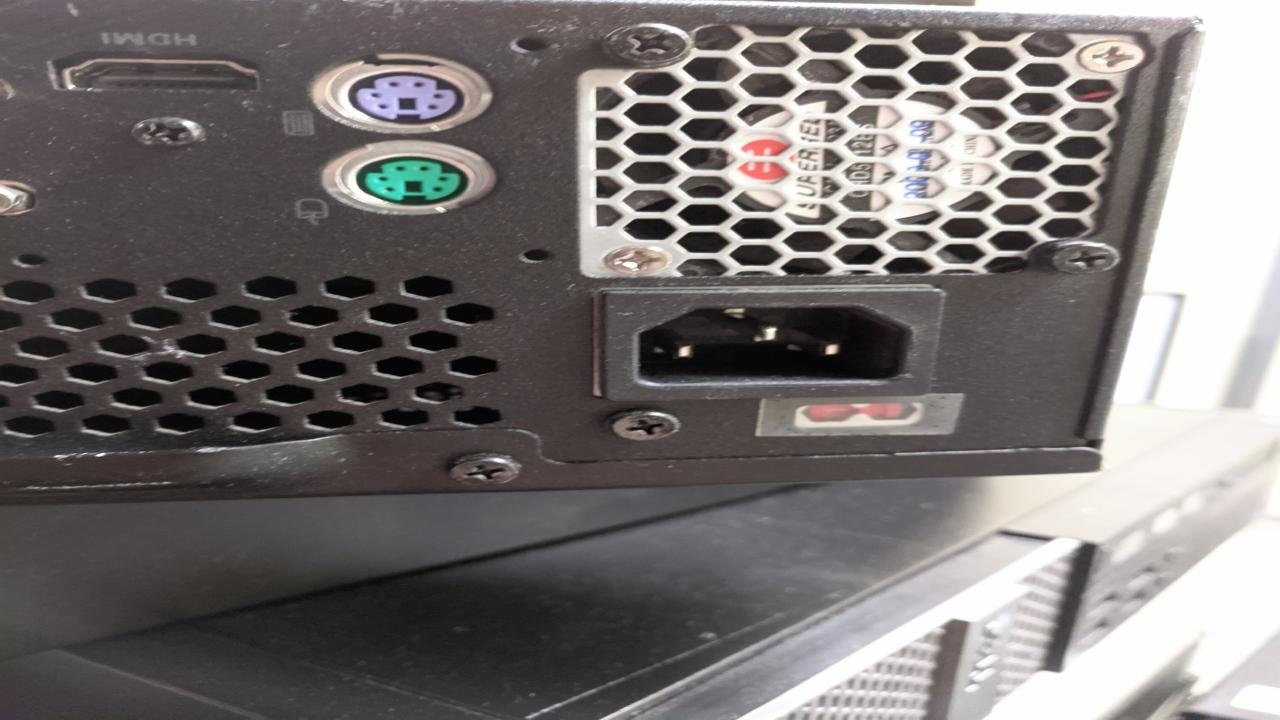CRS: (593, 21, 700, 65), (1042, 236, 1130, 276), (439, 452, 530, 487), (610, 406, 685, 443), (125, 118, 209, 148), (1082, 39, 1149, 74), (600, 243, 666, 276)
